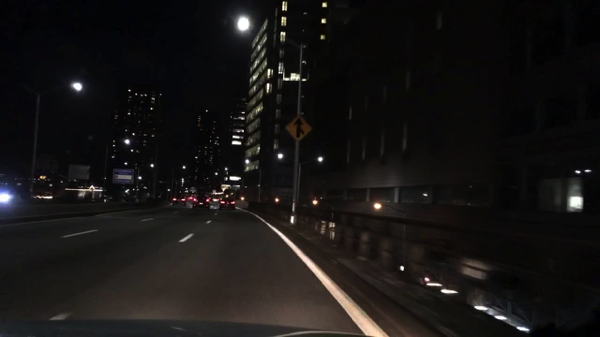car: (1, 182, 35, 204), (191, 194, 211, 211), (219, 197, 237, 212), (172, 195, 187, 207), (212, 196, 221, 203)
traffic sign: (284, 115, 313, 141), (67, 164, 91, 181), (112, 168, 134, 186)
